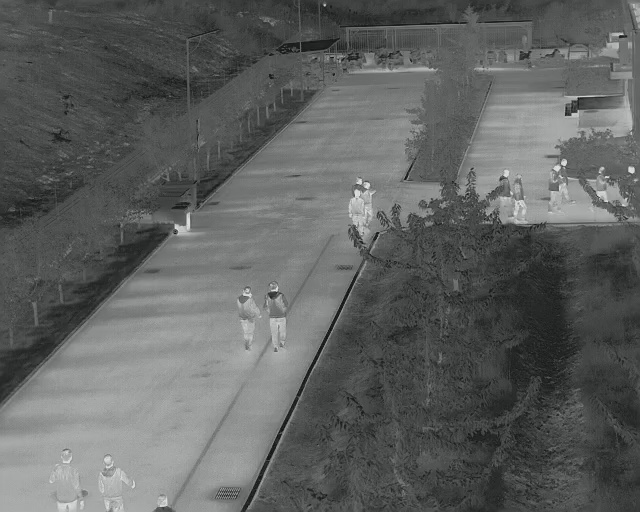person: (48, 445, 87, 510), (98, 451, 138, 512), (263, 278, 294, 352), (236, 282, 262, 355), (512, 174, 529, 225), (346, 189, 366, 226), (496, 167, 513, 207), (548, 163, 561, 215), (362, 179, 376, 223), (594, 164, 610, 196)
